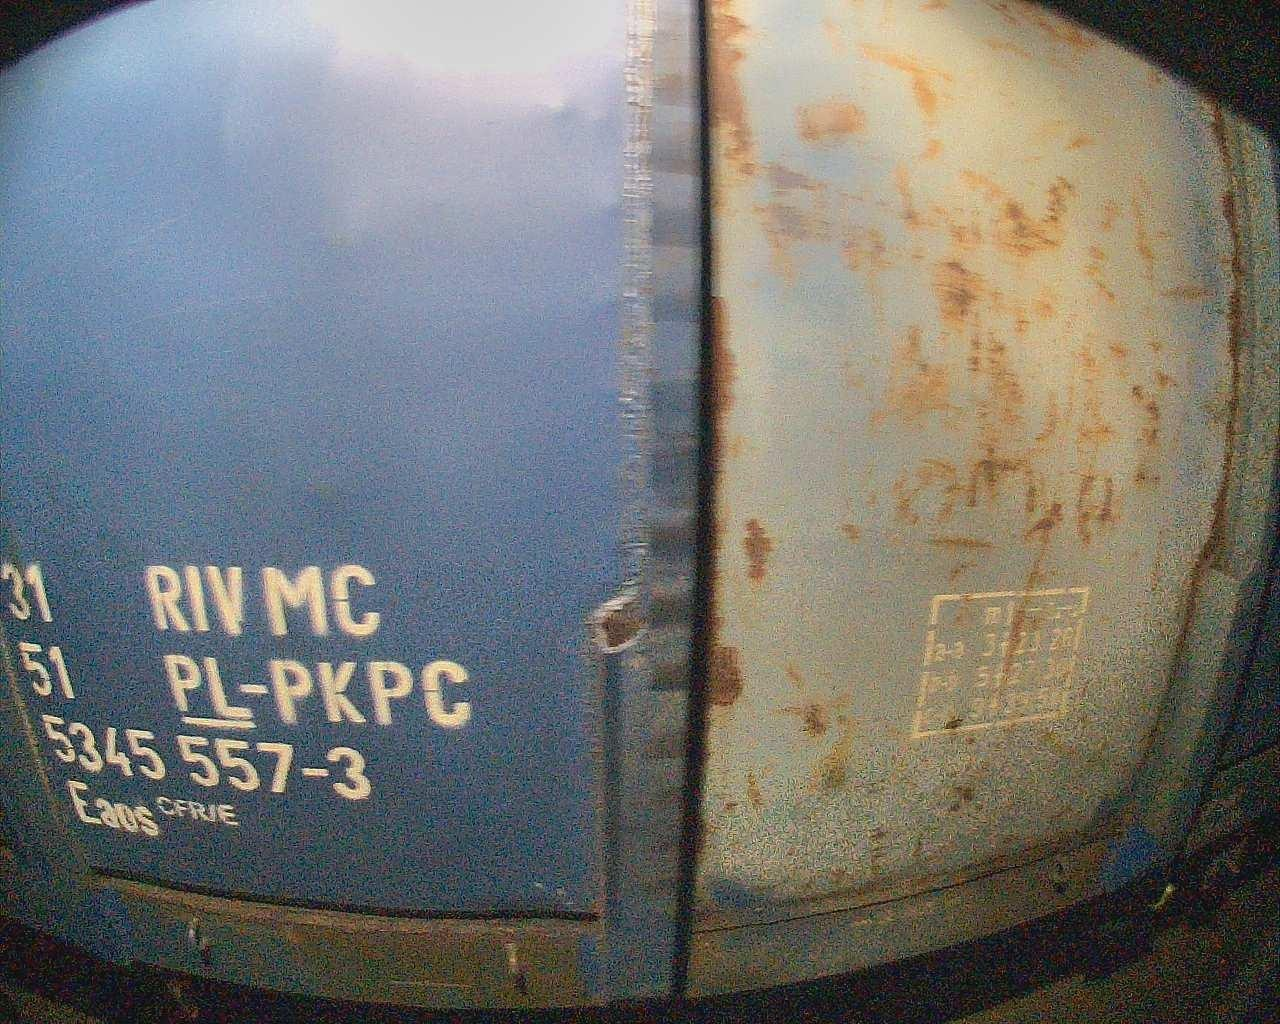UIC: (1, 558, 479, 845)
